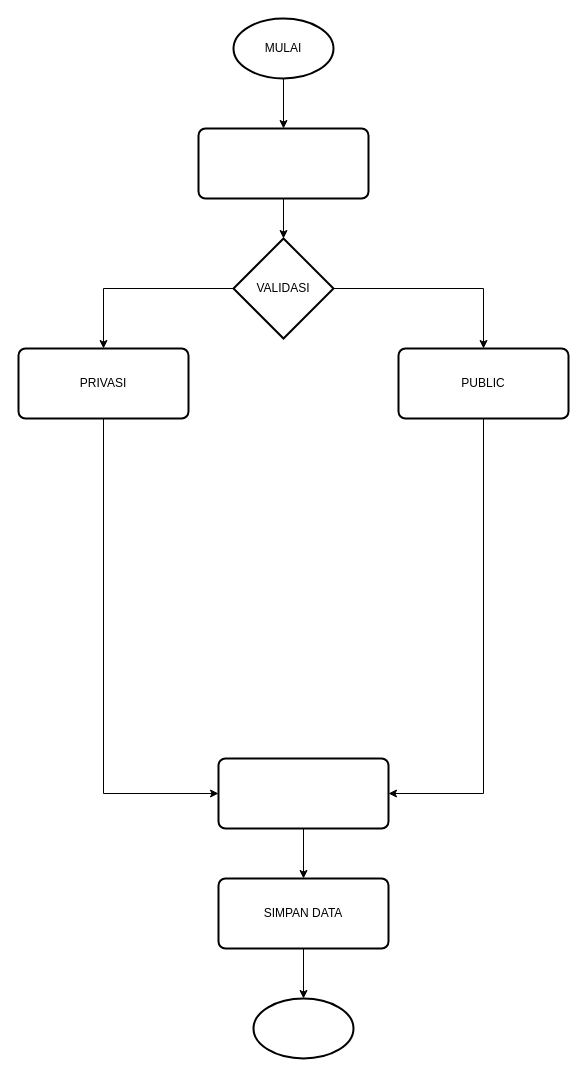
This 586x1076 diagram has some shape labels left out. The shapes that lost their labels are listed below. From the top down, each one's box as (x1, y1, x2, y2) in pixels, then its label:
(197, 127, 369, 199): INPUT KONTEN
(217, 757, 389, 829): KONFIRMASI
(252, 997, 354, 1059): SELESAI
